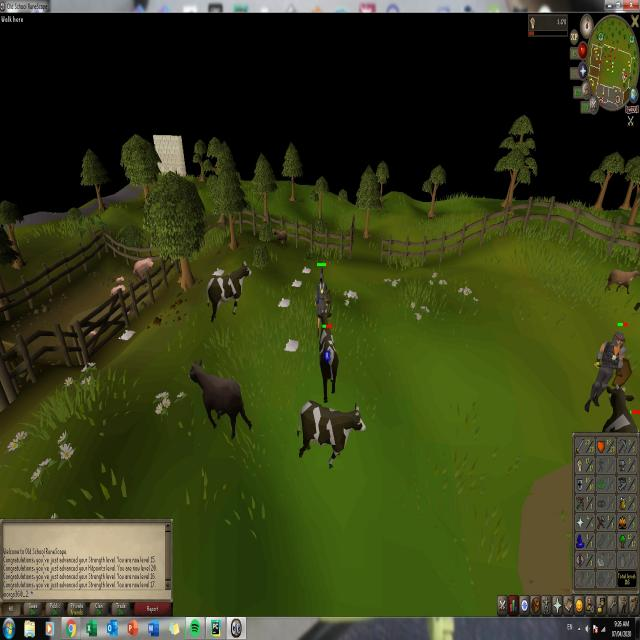cow: (186, 358, 253, 440), (297, 397, 366, 468), (203, 255, 251, 323), (317, 307, 339, 408), (600, 384, 637, 431), (606, 264, 637, 294), (271, 230, 289, 248)
player: (314, 266, 328, 308)
